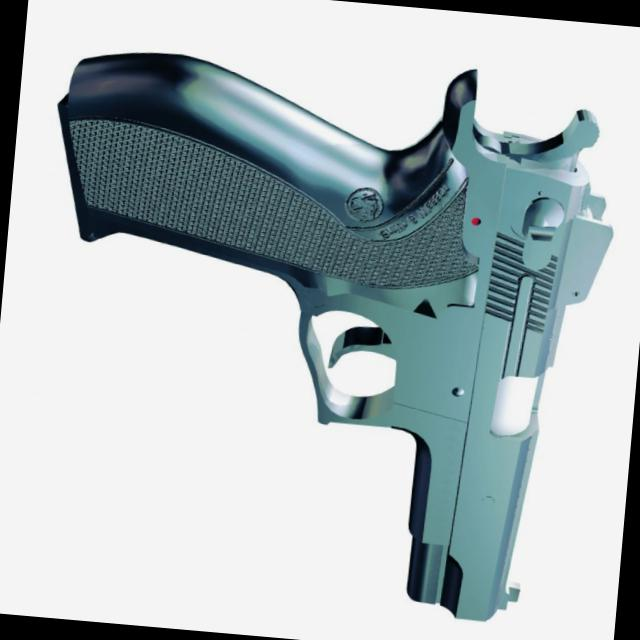handgun: (12, 32, 626, 628)
